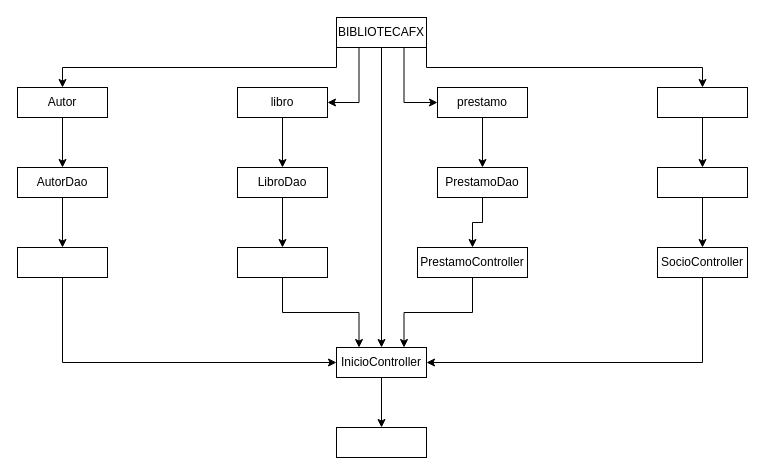
Some shapes in this 765 by 475 pixel diagram are drawn without their labels. The shapes that lost their labels are listed below. From the top down, each one's box as (x1, y1, x2, y2) in pixels, then its label:
(656, 86, 748, 118): socio
(656, 166, 748, 198): SocioDao
(16, 246, 108, 278): AutorController
(236, 246, 328, 278): LibroController
(336, 426, 426, 458): HelloAplication
